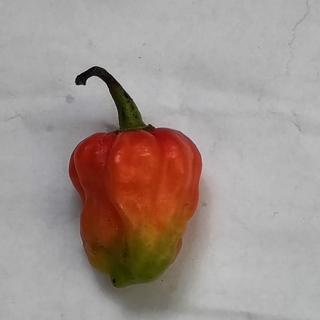Grade-A: (62, 124, 206, 295)
